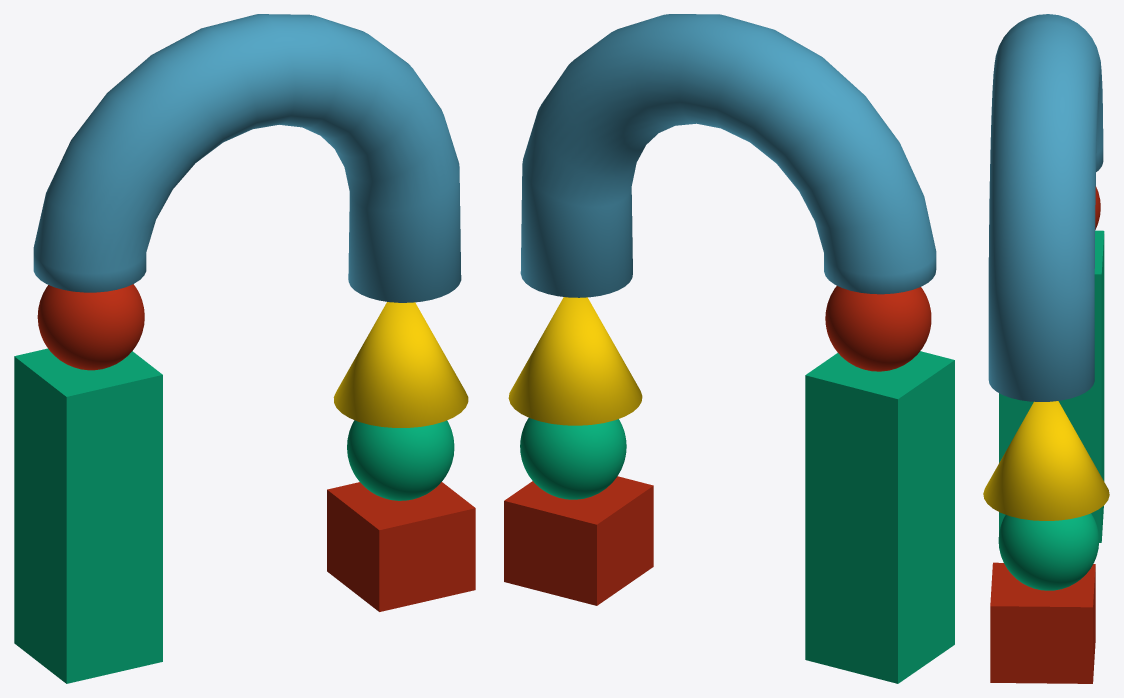
The model's file is gate_2.glb.
3 views of the same model, side by side, from view 1: azimuth 30°, elevation 25°; view 2: azimuth 150°, elevation 25°; view 3: azimuth 270°, elevation 25° (orthographic). The views are drawn at different scales.
Parts seen in each view (by area): view 1: Cube.003; view 2: Cube.003; view 3: Cube.003.
Boxes of the visible parts, <box> form: Cube.003: <box>14,14,475,683</box>; Cube.003: <box>504,14,954,683</box>; Cube.003: <box>983,14,1109,683</box>.
Bounding box in the file's own units: 11.25 × 15.31 × 3.15.
